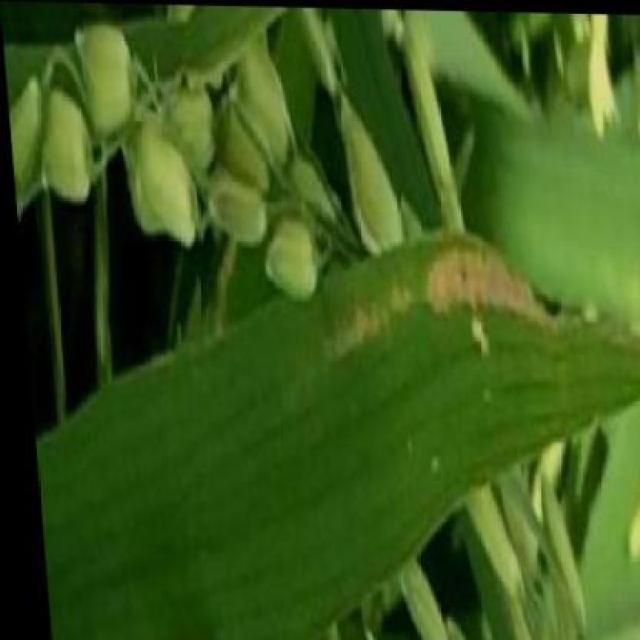Brown_Spot: (309, 231, 640, 457)
